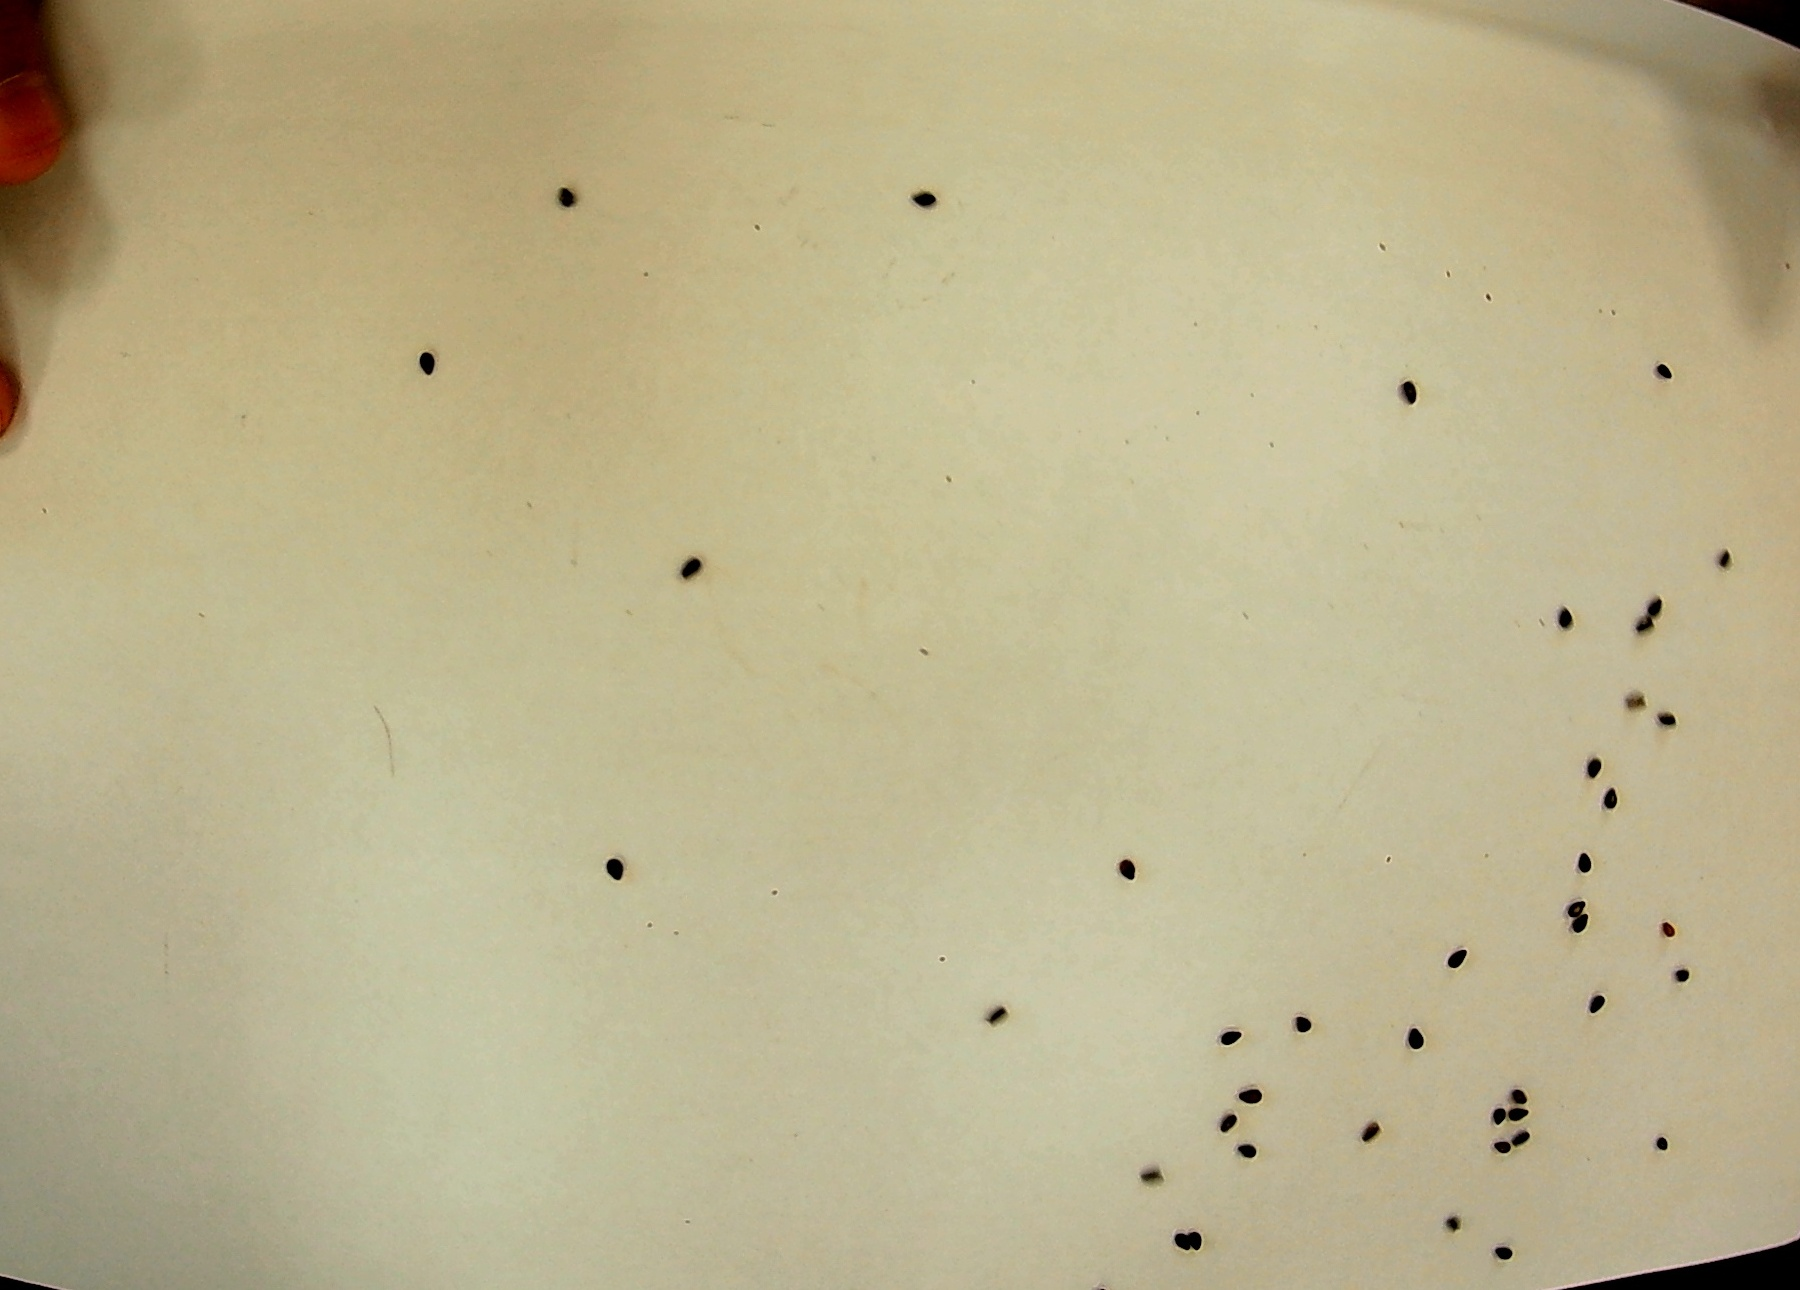sesami: (594, 852, 633, 880), (1112, 853, 1144, 887), (674, 553, 705, 585), (1655, 913, 1684, 942), (412, 350, 442, 378), (1581, 752, 1609, 783), (982, 1004, 1014, 1030), (906, 187, 943, 209), (1404, 1021, 1429, 1053), (1446, 944, 1473, 972), (1566, 889, 1591, 920), (1359, 1115, 1381, 1149), (1233, 1139, 1261, 1166), (1293, 1008, 1319, 1037), (1214, 1028, 1249, 1048), (1398, 376, 1420, 408), (1585, 990, 1612, 1016), (1238, 1083, 1266, 1109), (1655, 708, 1683, 733), (1554, 603, 1580, 631), (1487, 1243, 1520, 1263), (1167, 1229, 1193, 1254), (1649, 1129, 1676, 1155), (555, 181, 579, 209), (1652, 357, 1677, 383), (1600, 785, 1623, 813), (1633, 614, 1655, 642), (1215, 1111, 1238, 1136), (1713, 547, 1736, 572), (1575, 849, 1596, 875), (1568, 912, 1591, 935), (1645, 593, 1666, 618), (1672, 961, 1691, 986), (1192, 1223, 1201, 1259)
